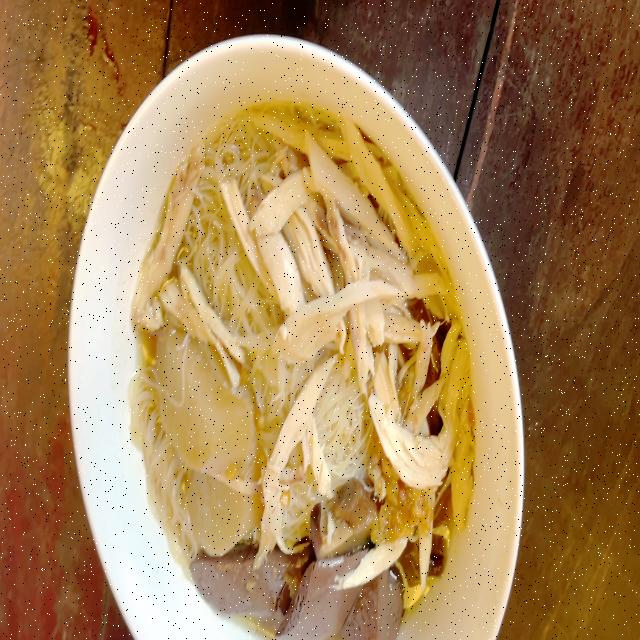boiled_chicken_blood_jelly: (208, 547, 406, 640)
chicken_shredded: (257, 123, 473, 480), (137, 144, 203, 330)
daikon_radish: (149, 330, 257, 552)
noodle: (128, 97, 475, 640)
